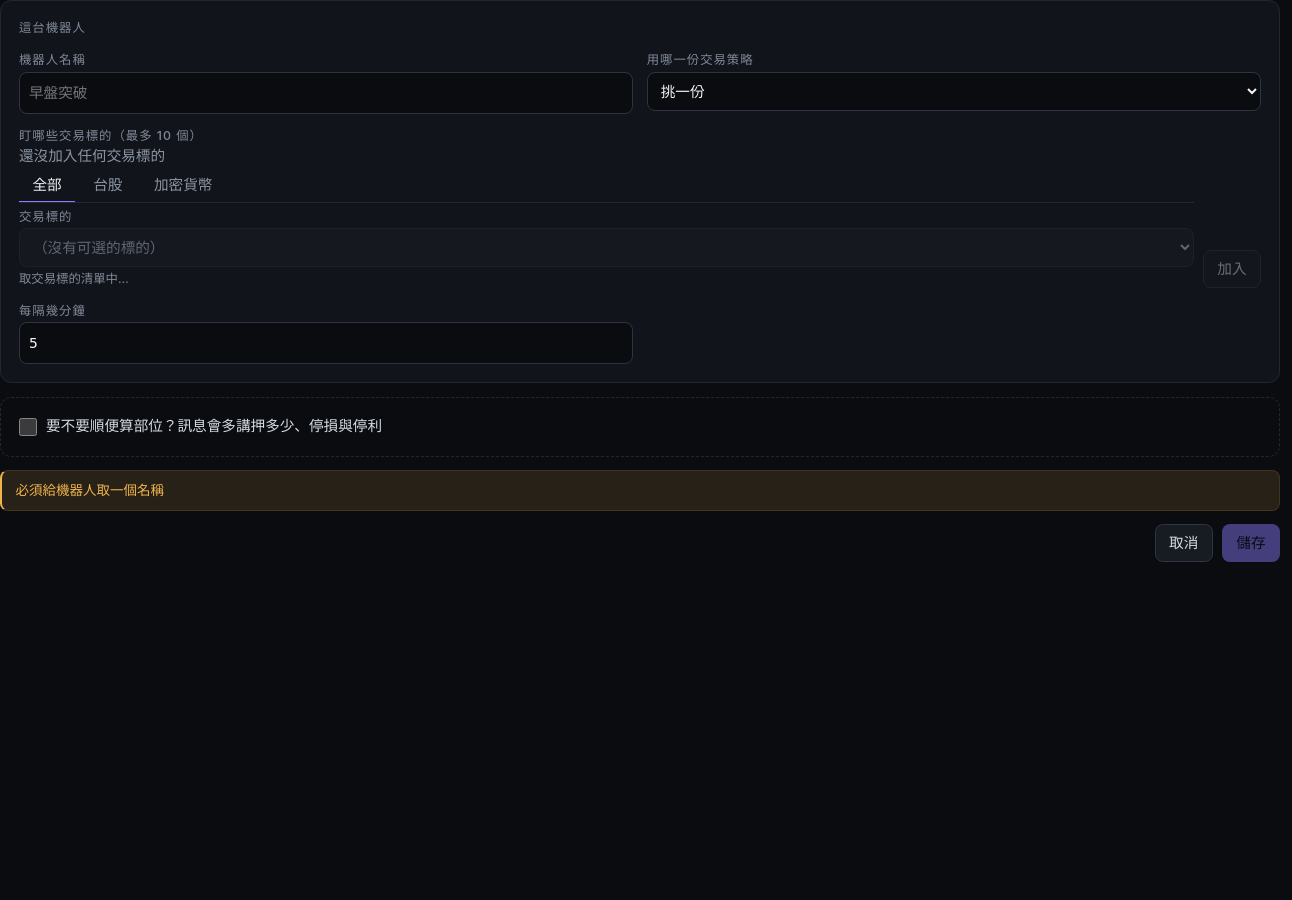
Test: StrategyBotForm 的建議部位 › 按一下就展開
Click the checkbox with test id "bot-position-plan-toggle": (28, 427) [19,418,37,436]
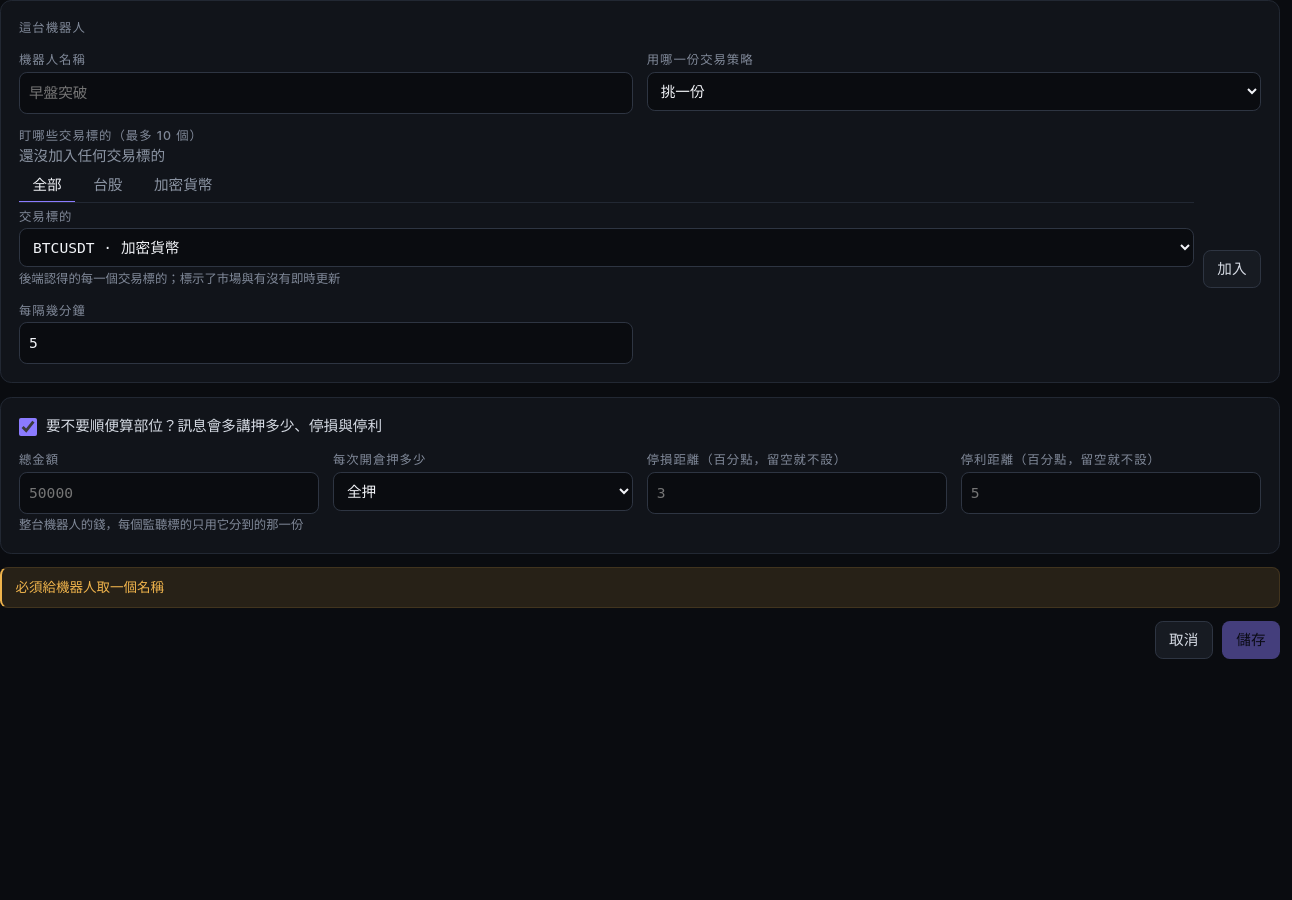
Now the element with test id "bot-position-plan-fields" is shown, box [19,451,1261,535]
